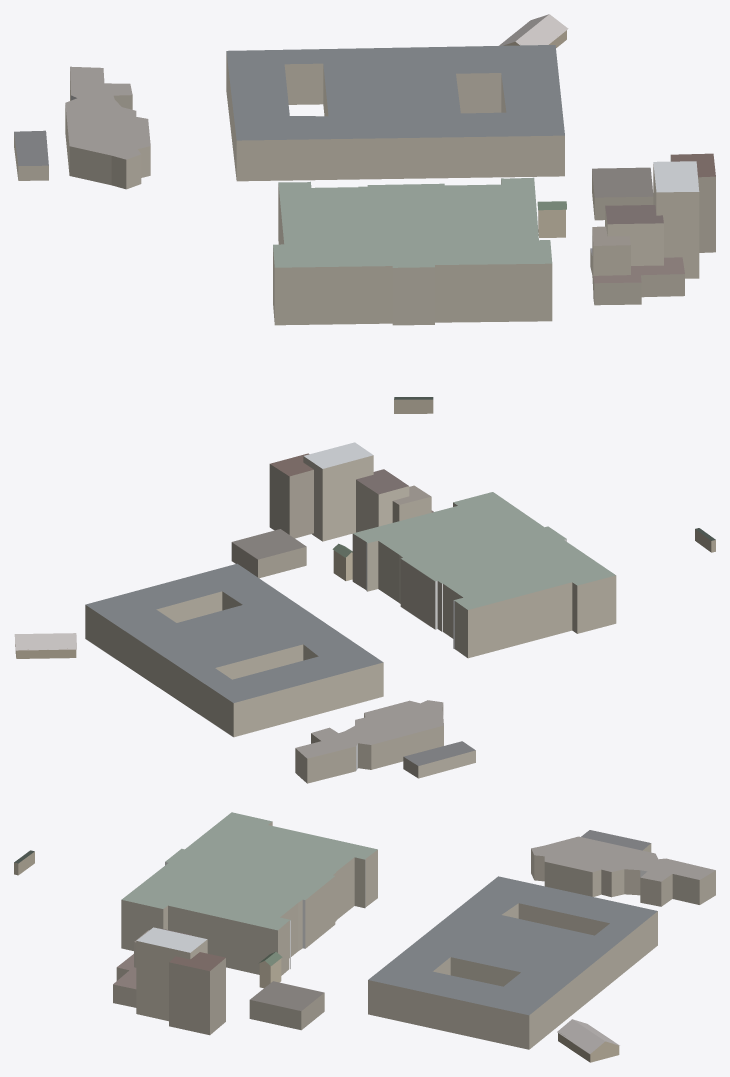
3 views of the same model, one above another, from view 1: azimuth 30°, elevation 25°; view 2: azimuth 150°, elevation 25°; view 3: azimuth 270°, elevation 25° (orthographic). The views are drawn at different scales.
Parts seen in each view (by area): view 1: tuile; view 2: tuile; view 3: tuile.
Boxes of the visible parts, left/top/right/bottom form: tuile: left=14, top=14, right=715, bottom=413; tuile: left=14, top=442, right=715, bottom=783; tuile: left=14, top=812, right=715, bottom=1062.
Bounding box in the file's own units: 202 × 30.7 × 265.
